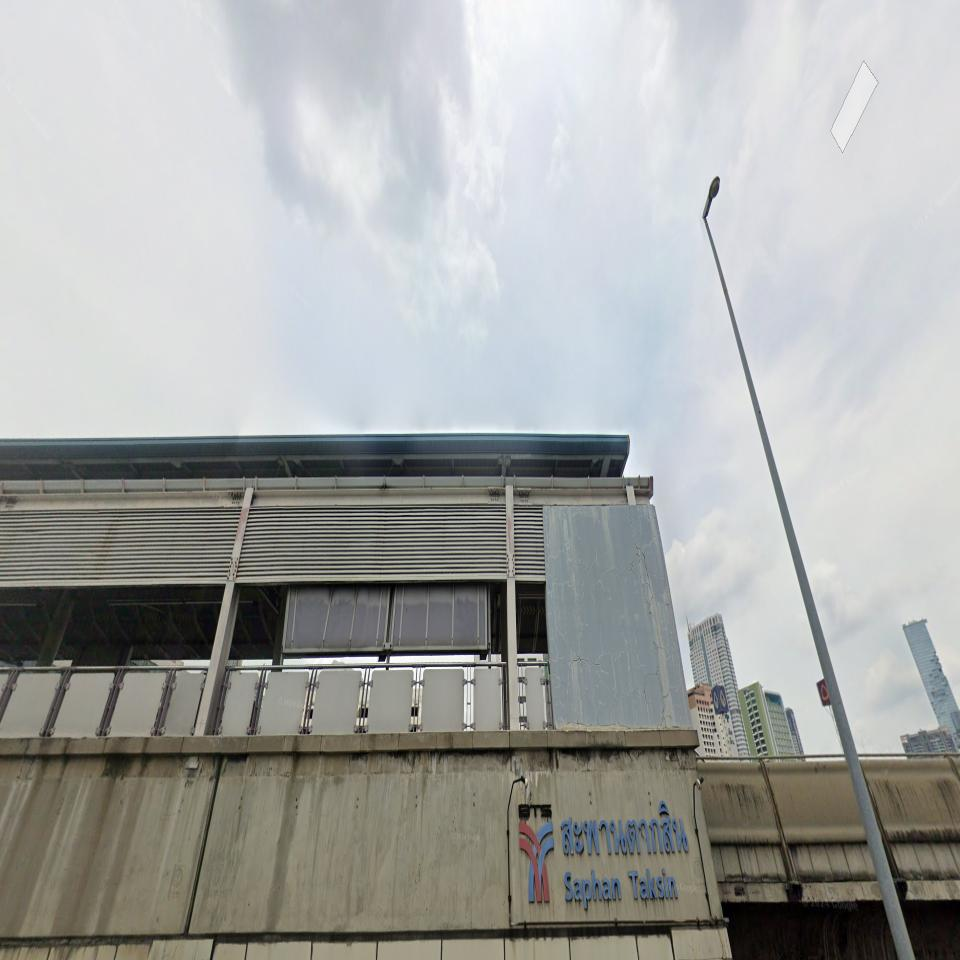signage: (518, 799, 690, 911), (560, 799, 689, 911)
